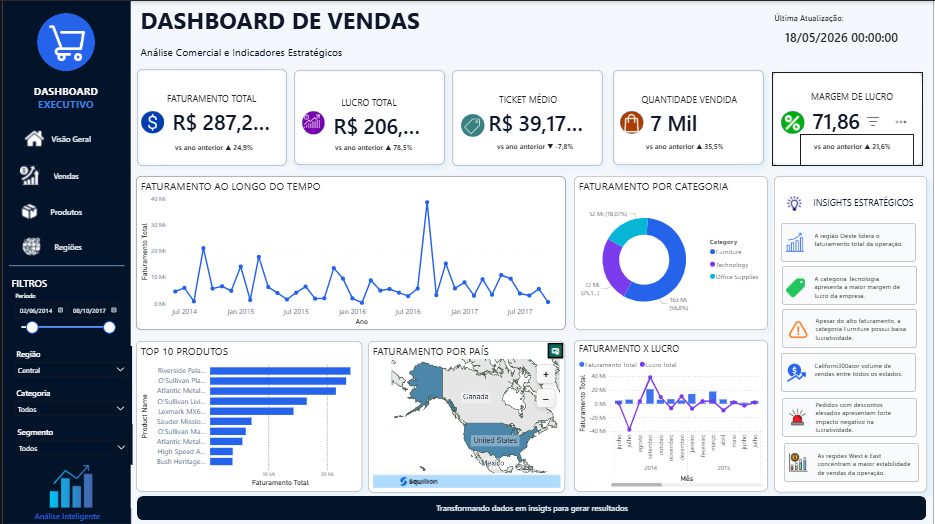

This screenshot's page, from the dashboard's own definition file:
{"tool":"powerbi","page":{"name":"Página 1","canvas":[1920,1080],"ordinal":0},"visuals":[{"type":"shape","box":[927.6,143.1,311.1,197.8],"z":0,"group":"g5"},{"type":"shape","box":[1260.3,143.1,311.1,195.6],"z":1000,"group":"g6"},{"type":"shape","box":[600,143.1,311.1,195.6],"z":2000,"group":"g3"},{"type":"cardVisual","title":"LUCRO TOTAL","fields":{"Data":["Sales.Lucro Total"]},"box":[618.7,187.1,272.4,108.6],"z":3000,"group":"g3"},{"type":"shape","box":[277.6,139.7,308.6,200],"z":4000,"group":"g2"},{"type":"shape","box":[0,0,263.6,1079.5],"z":5000},{"type":"lineChart","title":"FATURAMENTO AO LONGO DO TEMPO","fields":{"Y":["Sales.Faturamento Total"],"Category":["Sales.Order Date.Variation.Hierarquia de datas.Ano","Sales.Order Date.Variation.Hierarquia de datas.Mês"]},"box":[273.8,360.5,886.7,317.8],"z":6000},{"type":"donutChart","title":"FATURAMENTO POR CATEGORIA","fields":{"Category":["Sales.Category"],"Y":["Sales.Faturamento Total"]},"box":[1178.3,360.5,400,317.8],"z":7000},{"type":"clusteredBarChart","title":"TOP 10 PRODUTOS","fields":{"Category":["Sales.Product Name"],"Y":["Sales.Faturamento Total"]},"box":[273.8,702.8,466.7,311.1],"z":8000},{"type":"MapBySquillion","title":"FATURAMENTO POR PAÍS","fields":{"category":["Sales.Country"],"value":["Sales.Faturamento Total"]},"box":[753.8,702.8,406.7,313.3],"z":9000},{"type":"textbox","box":[279.5,0,594.3,86.4],"z":10000},{"type":"textbox","box":[279.5,84.1,581.8,44.3],"z":11000},{"type":"lineClusteredColumnComboChart","title":"FATURAMENTO X LUCRO","fields":{"Y":["Sales.Faturamento Total"],"Category":["Sales.Order Date.Variation.Hierarquia de datas.Ano","Sales.Order Date.Variation.Hierarquia de datas.Mês"],"Y2":["Sales.Lucro Total"]},"box":[1178.3,700.5,400,313.3],"z":14000},{"type":"cardVisual","title":"Última Atualização:","fields":{"Data":["Min(dataAtualizacao.ultimaAtualizacao)"]},"box":[1587.5,23.9,290.9,78.4],"z":15000},{"type":"slicer","title":"FILTROS","fields":{"Values":["Sales.Order Date"]},"box":[12.5,567.9,239.3,128.6],"z":16000},{"type":"cardVisual","title":"FATURAMENTO TOTAL","fields":{"Data":["Sales.Faturamento Total"]},"box":[287.9,175.9,287.9,108.6],"z":17000,"group":"g2"},{"type":"shape","box":[286.2,225.9,48.3,46.6],"z":18000,"group":"g2"},{"type":"image","box":[279.3,231.1,60.3,37.9],"z":19000,"group":"g2"},{"type":"shape","box":[616,228.2,47.4,48.7],"z":20000,"group":"g3"},{"type":"image","box":[613.3,229.8,48.9,37.8],"z":21000,"group":"g3"},{"type":"cardVisual","fields":{"Data":["Sales.Texto KPI"]},"box":[327.6,274.2,248.3,67.2],"z":22000,"group":"g2"},{"type":"cardVisual","fields":{"Data":["Sales.Texto Lucro KPI"]},"box":[655.6,276.4,222.2,64.4],"z":23000,"group":"g3"},{"type":"cardVisual","title":"TICKET MÉDIO","fields":{"Data":["Sales.Ticket Médio"]},"box":[939.3,180.7,288.9,108.9],"z":24000,"group":"g4"},{"type":"shape","box":[946.4,234,48.7,47.4],"z":25000,"group":"g4"},{"type":"cardVisual","fields":{"Data":["Sales.Texto Ticket KPI"]},"box":[990.1,272.6,224.4,66.7],"z":26000,"group":"g4"},{"type":"cardVisual","title":"QUANTIDADE VENDIDA","fields":{"Data":["Sum(Sales.Quantity)"]},"box":[1274.2,180.2,286.2,108.6],"z":27000,"group":"g6"},{"type":"cardVisual","fields":{"Data":["Sales.Texto Qtd KPI"]},"box":[1300.3,274.2,222.2,64.4],"z":28000,"group":"g6"},{"type":"shape","box":[1274.4,227.7,48.7,47.4],"z":29000,"group":"g6"},{"type":"image","box":[1268.4,233.4,60.5,38.2],"z":30000,"group":"g6"},{"type":"shape","box":[1587.9,146.6,311.1,193.3],"z":31000,"group":"g7"},{"type":"cardVisual","title":"MARGEM DE LUCRO","fields":{"Data":["Sales.Margem %","Sales.Margem %"]},"box":[1607.9,173.3,288.9,111.1],"z":32000,"group":"g7"},{"type":"cardVisual","fields":{"Data":["Sales.Texto Margem KPI"]},"box":[1645.7,275.5,235.6,64.4],"z":33000,"group":"g7"},{"type":"shape","box":[1605.9,226.7,48.7,47.4],"z":34000,"group":"g7"},{"type":"image","box":[1606.9,235.4,47.4,31.6],"z":35000,"group":"g7"},{"type":"image","box":[941.1,241.9,53.9,34.2],"z":36000,"group":"g4"},{"type":"shape","box":[1591.6,360.5,315.6,653.3],"z":37000},{"type":"textbox","box":[1620.5,398.3,264.4,51.1],"z":38000},{"type":"image","box":[1611.6,402.8,42.2,31.1],"z":39000},{"type":"shape","box":[1606.5,458.8,277.6,80],"z":40000},{"type":"image","box":[1617.1,470.6,38.8,55.3],"z":41000},{"type":"textbox","box":[1670,470.6,203.5,61.2],"z":42000},{"type":"shape","box":[1607.2,547.8,277.6,80],"z":43000},{"type":"image","box":[1617.2,567.2,38.8,48.2],"z":44000},{"type":"textbox","box":[1670.8,559.6,203.5,61.2],"z":45000},{"type":"shape","box":[1609.2,635.2,277.6,80],"z":46000},{"type":"image","box":[1622.7,649.4,37.8,55.6],"z":47000},{"type":"textbox","box":[1672.7,647,203.5,61.2],"z":48000},{"type":"shape","box":[1607.1,727.1,277.6,80],"z":49000},{"type":"image","box":[1617.7,738.9,38.8,55.3],"z":50000},{"type":"textbox","box":[1670.6,738.9,203.5,61.2],"z":51000},{"type":"shape","box":[1608.9,819.4,277.6,80],"z":52000},{"type":"image","box":[1621.8,837,35.3,44.7],"z":53000},{"type":"textbox","box":[1672.4,819.4,203.5,80],"z":54000},{"type":"shape","box":[1611.8,912.6,277.6,80],"z":55000},{"type":"image","box":[1622.4,924.4,38.8,55.3],"z":56000},{"type":"shape","box":[69.3,23.9,120,120],"z":57000,"group":"g1"},{"type":"textbox","box":[1675.9,925,203.5,68.2],"z":57000},{"type":"textbox","box":[47.7,165.9,164.8,83],"z":58000},{"type":"actionButton","title":"Visão Geral","box":[31.8,251.1,219.3,64.8],"z":59000},{"type":"actionButton","title":"Visão Geral","box":[20.5,328.4,219.3,64.8],"z":60000},{"type":"actionButton","title":"Visão Geral","box":[21.6,402.3,219.3,64.8],"z":61000},{"type":"image","box":[85.2,23.9,90.9,125],"z":61011,"group":"g1"},{"type":"actionButton","title":"Visão Geral","box":[23.9,475,219.3,64.8],"z":62000},{"type":"shape","box":[12.5,516.1,239.3,60.7],"z":63000},{"type":"slicer","fields":{"Values":["Sales.Region"]},"box":[14.3,712.5,251.8,83.9],"z":64000},{"type":"slicer","fields":{"Values":["Sales.Category"]},"box":[14.3,792.9,251.8,83.9],"z":65000},{"type":"slicer","fields":{"Values":["Sales.Segment"]},"box":[15.9,873.9,251.1,84.1],"z":66000},{"type":"image","box":[48.9,958,181.8,87.5],"z":67000},{"type":"textbox","box":[0,1047.7,264.8,33],"z":68000},{"type":"group","id":"g1","title":"Grupo 1","box":[69.3,23.9,120,125],"z":69000},{"type":"group","id":"g2","title":"Grupo 2","box":[277.6,139.7,308.6,201.7],"z":69001},{"type":"group","id":"g3","title":"Grupo 3","box":[600,143.1,312.1,198.3],"z":69002},{"type":"group","id":"g4","title":"Grupo 4","box":[939.3,180.7,287.9,156.9],"z":69003,"group":"g5"},{"type":"group","id":"g5","title":"Grupo 5","box":[927.6,143.1,312.1,198.3],"z":69004},{"type":"group","id":"g6","title":"Grupo 6","box":[1260.3,143.1,310.3,196.6],"z":69005},{"type":"group","id":"g7","title":"Grupo 7","box":[1587.9,146.6,312.1,193.1],"z":69006},{"type":"shape","box":[277.6,1022.4,1629.3,50],"z":69007},{"type":"textbox","box":[287.9,1031,1610.3,32.8],"z":69008}]}

Visuals, with their boxes on the page's 1920x1080 design canvas (x1, y1, x2, y2). These are canvas units, not pixel positions in the 935x524 screenshot, which may show the page scaled, cropped or inside an application window:
shape: l=928, t=143, r=1239, b=341
shape: l=1260, t=143, r=1571, b=339
shape: l=600, t=143, r=911, b=339
"LUCRO TOTAL" cardVisual: l=619, t=187, r=891, b=296
shape: l=278, t=140, r=586, b=340
shape: l=0, t=0, r=264, b=1080
"FATURAMENTO AO LONGO DO TEMPO" lineChart: l=274, t=360, r=1160, b=678
"FATURAMENTO POR CATEGORIA" donutChart: l=1178, t=360, r=1578, b=678
"TOP 10 PRODUTOS" clusteredBarChart: l=274, t=703, r=740, b=1014
"FATURAMENTO POR PAÍS" MapBySquillion: l=754, t=703, r=1160, b=1016
textbox: l=280, t=0, r=874, b=86
textbox: l=280, t=84, r=861, b=128
"FATURAMENTO X LUCRO" lineClusteredColumnComboChart: l=1178, t=700, r=1578, b=1014
"Última Atualização:" cardVisual: l=1588, t=24, r=1878, b=102
"FILTROS" slicer: l=12, t=568, r=252, b=696
"FATURAMENTO TOTAL" cardVisual: l=288, t=176, r=576, b=284
shape: l=286, t=226, r=334, b=272
image: l=279, t=231, r=340, b=269
shape: l=616, t=228, r=663, b=277
image: l=613, t=230, r=662, b=268
cardVisual - Sales.Texto KPI: l=328, t=274, r=576, b=341
cardVisual - Sales.Texto Lucro KPI: l=656, t=276, r=878, b=341
"TICKET MÉDIO" cardVisual: l=939, t=181, r=1228, b=290
shape: l=946, t=234, r=995, b=281
cardVisual - Sales.Texto Ticket KPI: l=990, t=273, r=1214, b=339
"QUANTIDADE VENDIDA" cardVisual: l=1274, t=180, r=1560, b=289
cardVisual - Sales.Texto Qtd KPI: l=1300, t=274, r=1522, b=339
shape: l=1274, t=228, r=1323, b=275
image: l=1268, t=233, r=1329, b=272
shape: l=1588, t=147, r=1899, b=340
"MARGEM DE LUCRO" cardVisual: l=1608, t=173, r=1897, b=284
cardVisual - Sales.Texto Margem KPI: l=1646, t=276, r=1881, b=340
shape: l=1606, t=227, r=1655, b=274
image: l=1607, t=235, r=1654, b=267
image: l=941, t=242, r=995, b=276
shape: l=1592, t=360, r=1907, b=1014
textbox: l=1620, t=398, r=1885, b=449
image: l=1612, t=403, r=1654, b=434
shape: l=1606, t=459, r=1884, b=539
image: l=1617, t=471, r=1656, b=526
textbox: l=1670, t=471, r=1874, b=532
shape: l=1607, t=548, r=1885, b=628
image: l=1617, t=567, r=1656, b=615
textbox: l=1671, t=560, r=1874, b=621
shape: l=1609, t=635, r=1887, b=715
image: l=1623, t=649, r=1660, b=705
textbox: l=1673, t=647, r=1876, b=708
shape: l=1607, t=727, r=1885, b=807
image: l=1618, t=739, r=1656, b=794
textbox: l=1671, t=739, r=1874, b=800
shape: l=1609, t=819, r=1886, b=899
image: l=1622, t=837, r=1657, b=882
textbox: l=1672, t=819, r=1876, b=899
shape: l=1612, t=913, r=1889, b=993
image: l=1622, t=924, r=1661, b=980
shape: l=69, t=24, r=189, b=144
textbox: l=1676, t=925, r=1879, b=993
textbox: l=48, t=166, r=212, b=249
"Visão Geral" actionButton: l=32, t=251, r=251, b=316
"Visão Geral" actionButton: l=20, t=328, r=240, b=393
"Visão Geral" actionButton: l=22, t=402, r=241, b=467
image: l=85, t=24, r=176, b=149
"Visão Geral" actionButton: l=24, t=475, r=243, b=540
shape: l=12, t=516, r=252, b=577
slicer - Sales.Region: l=14, t=712, r=266, b=796
slicer - Sales.Category: l=14, t=793, r=266, b=877
slicer - Sales.Segment: l=16, t=874, r=267, b=958
image: l=49, t=958, r=231, b=1046
textbox: l=0, t=1048, r=265, b=1081
"Grupo 1" group: l=69, t=24, r=189, b=149
"Grupo 2" group: l=278, t=140, r=586, b=341
"Grupo 3" group: l=600, t=143, r=912, b=341
"Grupo 4" group: l=939, t=181, r=1227, b=338
"Grupo 5" group: l=928, t=143, r=1240, b=341
"Grupo 6" group: l=1260, t=143, r=1571, b=340
"Grupo 7" group: l=1588, t=147, r=1900, b=340
shape: l=278, t=1022, r=1907, b=1072
textbox: l=288, t=1031, r=1898, b=1064
